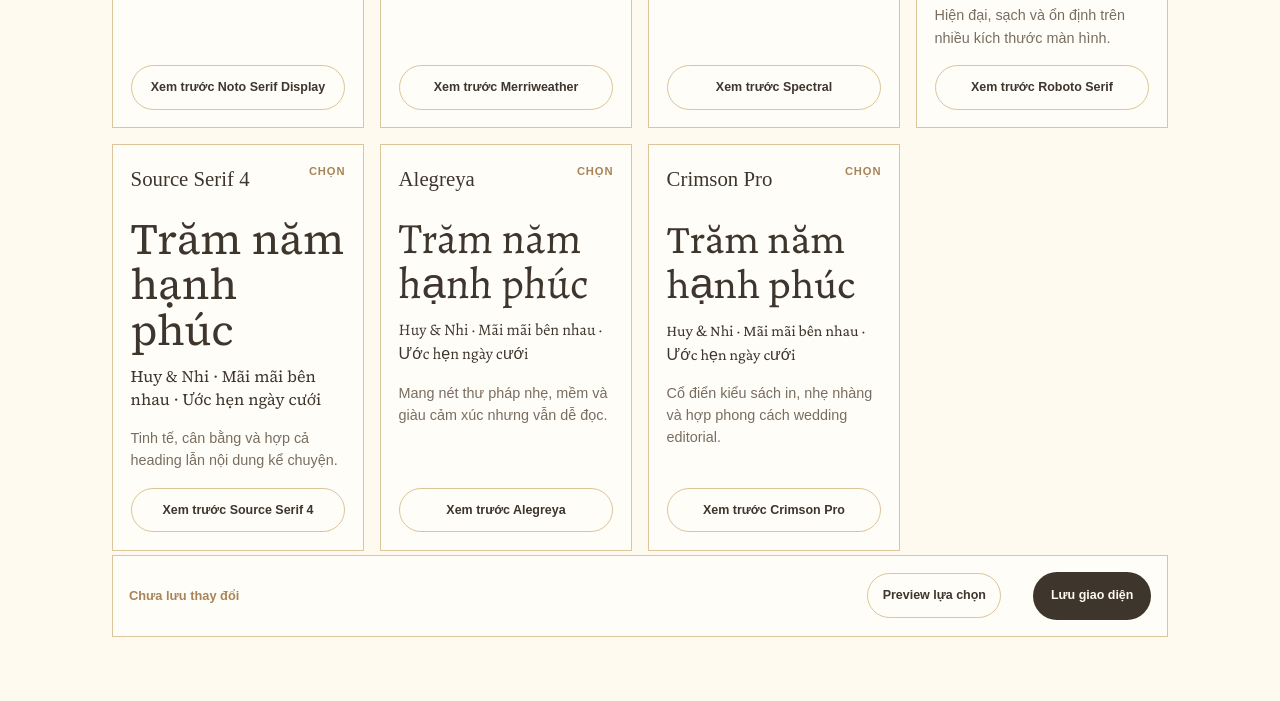
it: AdminAppearanceEditor › lets an admin repair removed stored appearance presets by saving fallbacks
The width and height of the screenshot is (1280, 701).
(page scrolled)
Click the button "Lưu giao diện" at point(1092, 596), box [1033, 572, 1151, 620]
(page scrolled)
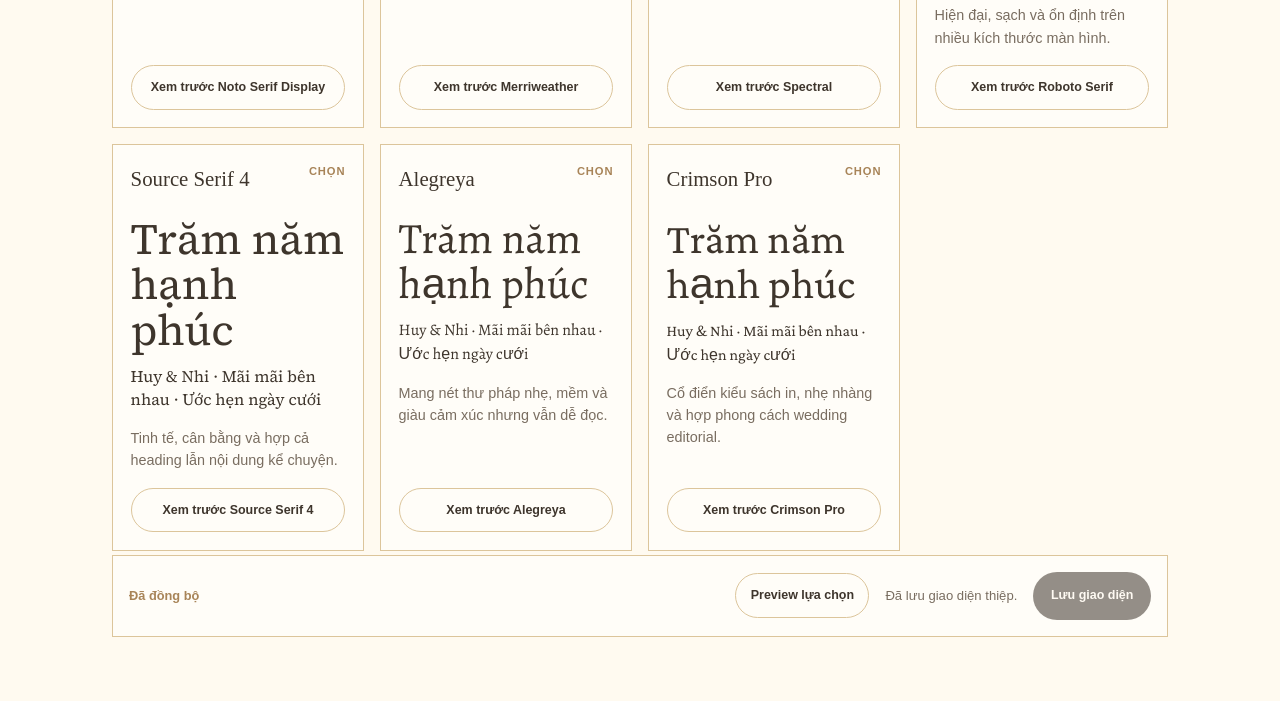
Result: the text "Đã lưu giao diện thiệp." is shown at [885, 586, 1017, 606]
